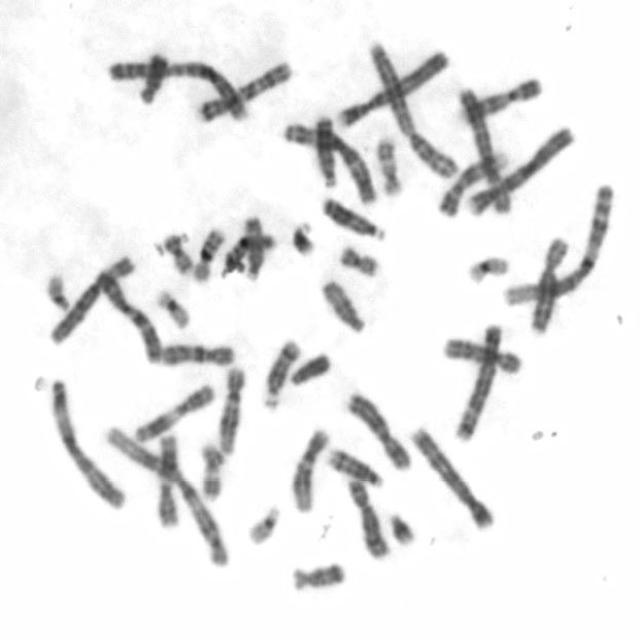A1: (100, 422, 231, 568), (499, 178, 617, 309)
A2: (366, 36, 460, 179), (102, 55, 251, 123)
A3: (45, 374, 128, 510), (280, 116, 378, 205)
B4: (461, 121, 576, 217), (333, 47, 451, 131)
B5: (408, 423, 497, 534), (449, 318, 504, 442)
C10: (438, 332, 524, 376), (156, 338, 237, 368)
C11: (130, 380, 216, 444), (153, 432, 180, 531)
C12: (286, 424, 331, 515), (212, 364, 246, 456)
C6: (46, 251, 137, 348), (454, 85, 514, 216)
C7: (95, 258, 163, 366), (192, 56, 294, 125)
C8: (526, 233, 572, 337), (344, 474, 392, 560)
C9: (434, 147, 509, 219), (455, 73, 543, 125)
D13: (318, 192, 386, 242), (311, 111, 338, 189)
D14: (259, 334, 302, 410), (324, 443, 386, 489)
D15: (317, 275, 367, 336), (240, 211, 265, 282)
E16: (219, 228, 276, 280), (188, 224, 226, 284)
E17: (373, 131, 404, 198), (194, 438, 224, 504)
E18: (288, 557, 348, 592), (134, 48, 169, 106)
F19: (152, 286, 192, 332), (464, 251, 510, 285)
F20: (334, 243, 381, 280), (160, 230, 193, 276)
G21: (386, 506, 418, 548), (286, 216, 316, 258)
G22: (242, 501, 282, 546), (43, 270, 72, 313)
X: (343, 386, 413, 473)
Y: (286, 348, 333, 387)
